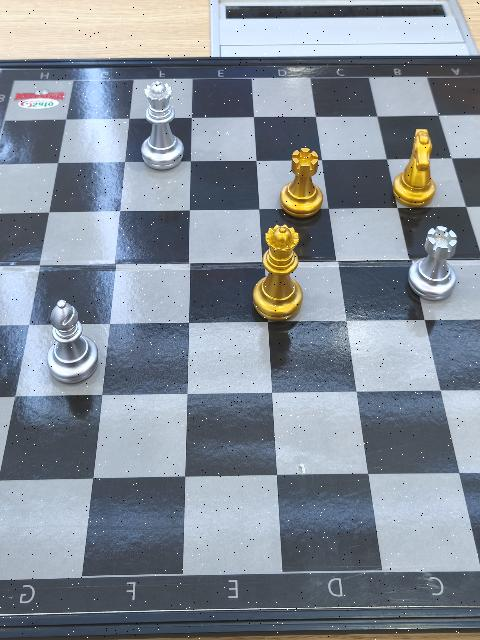black_knight: (391, 128, 436, 208)
black_queen: (251, 224, 304, 321)
black_rook: (278, 147, 324, 219)
white_bishop: (45, 299, 98, 387)
white_queen: (139, 78, 185, 172)
white_rook: (406, 226, 459, 302)
